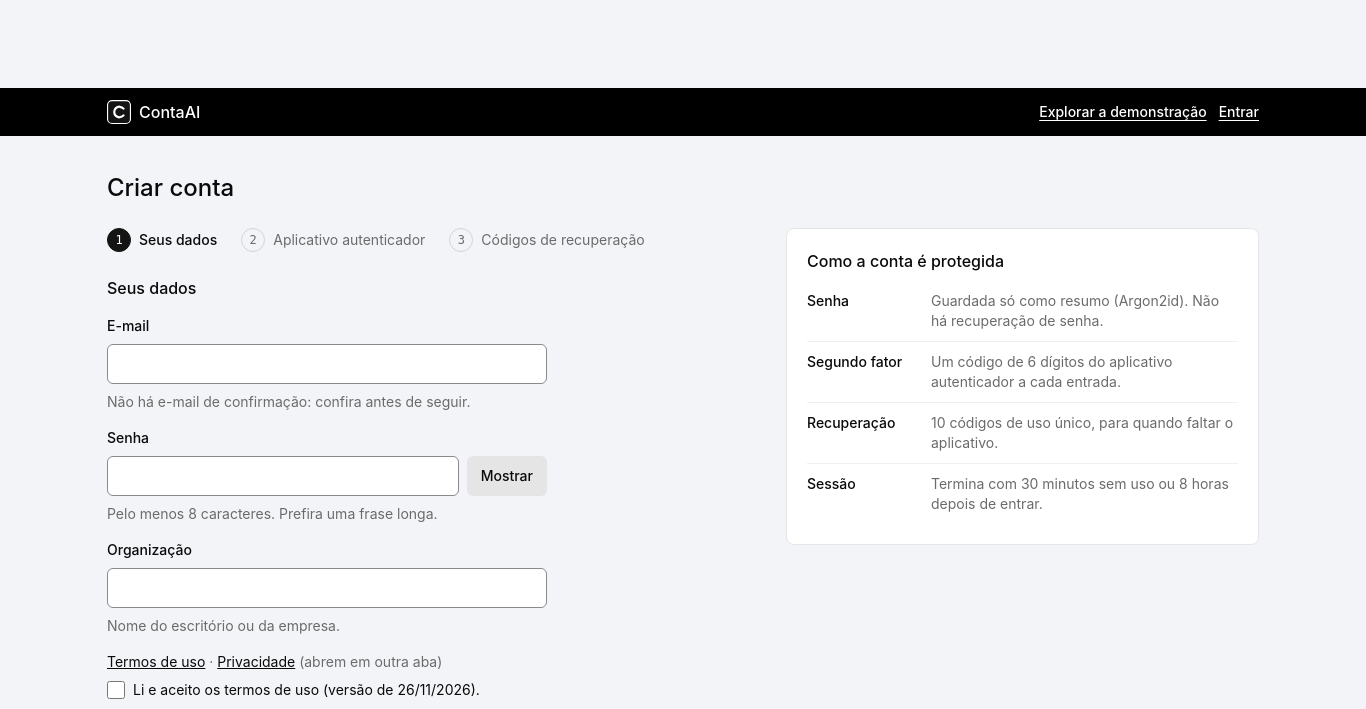
Criar conta, passo 1: os dados e o aceite › 409: a frase da API, com o foco, e o caminho para Entrar; o que foi digitado fica
(page scrolled)
Type "pessoa@exemplo.test" into the field labelled "E-mail" at (327,364), box left=107, top=344, right=547, bottom=384
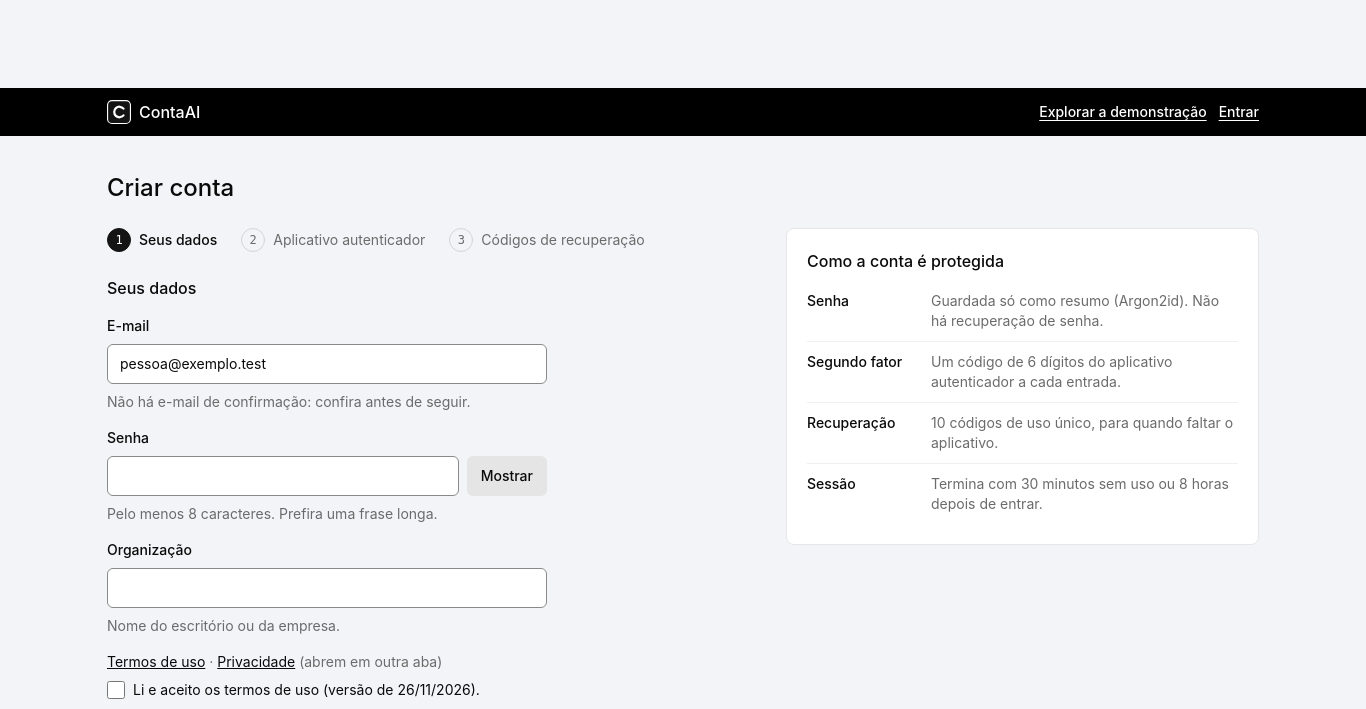
Type "uma frase bem longa" into the password field labelled "Senha" at (283,476), box left=107, top=456, right=459, bottom=496
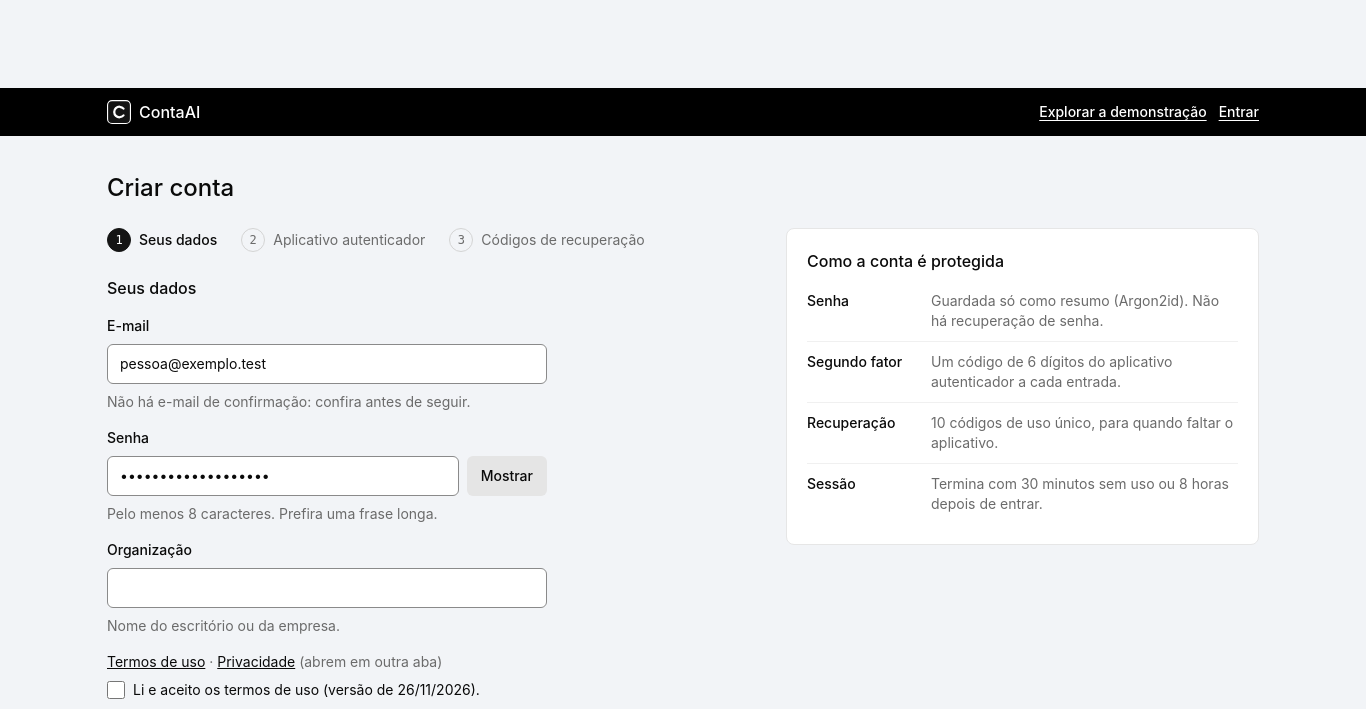
Type "Escritório de teste" into the field labelled "Organização" at (327,588), box left=107, top=568, right=547, bottom=608
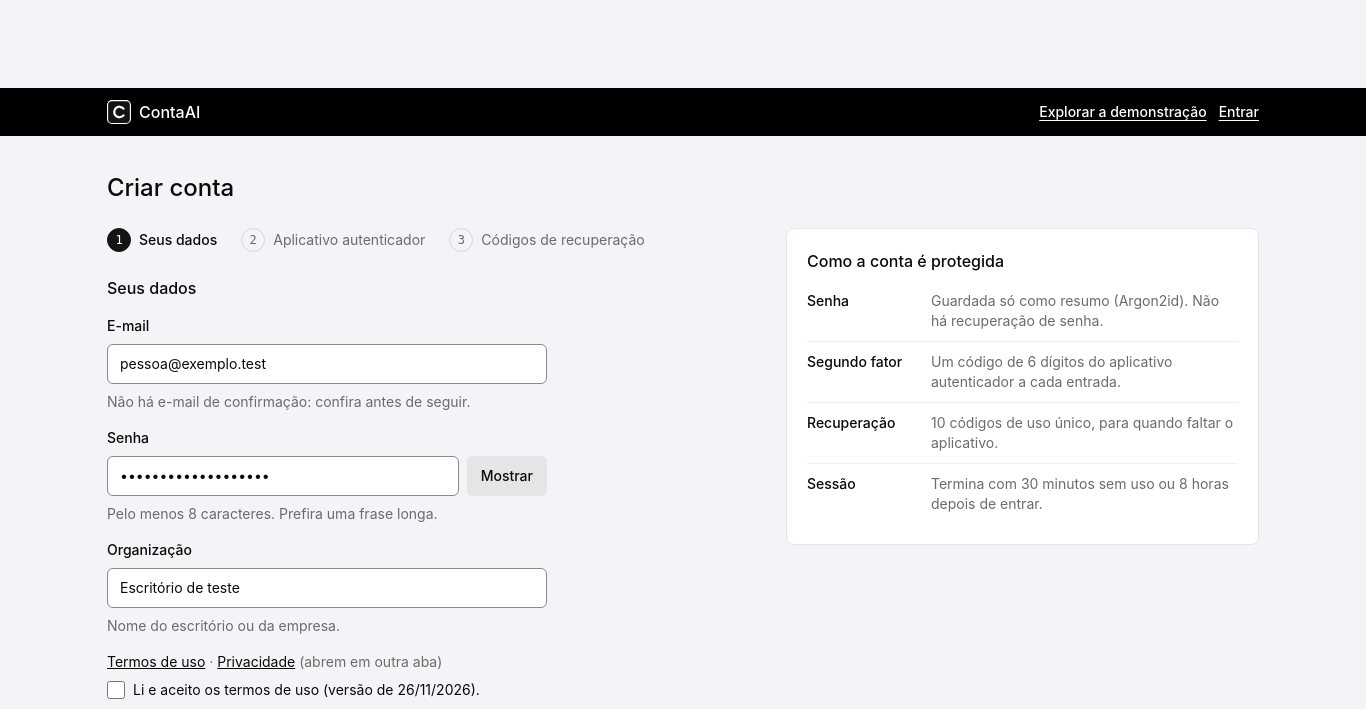
Click the checkbox labelled "Li e aceito os termos de uso (versão de 26/11/2026)." at (116,690), box left=107, top=681, right=125, bottom=699
(page scrolled)
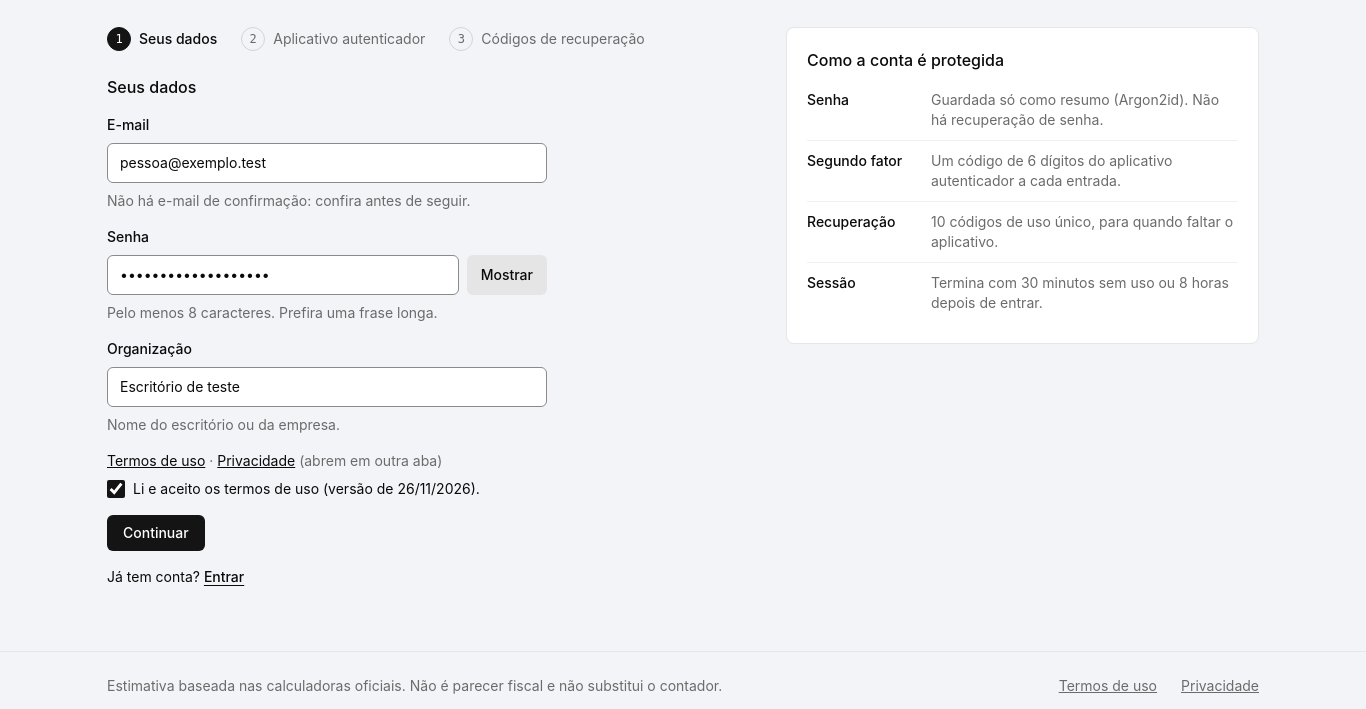
Click the button "Continuar" at (156,533), box left=107, top=515, right=205, bottom=551
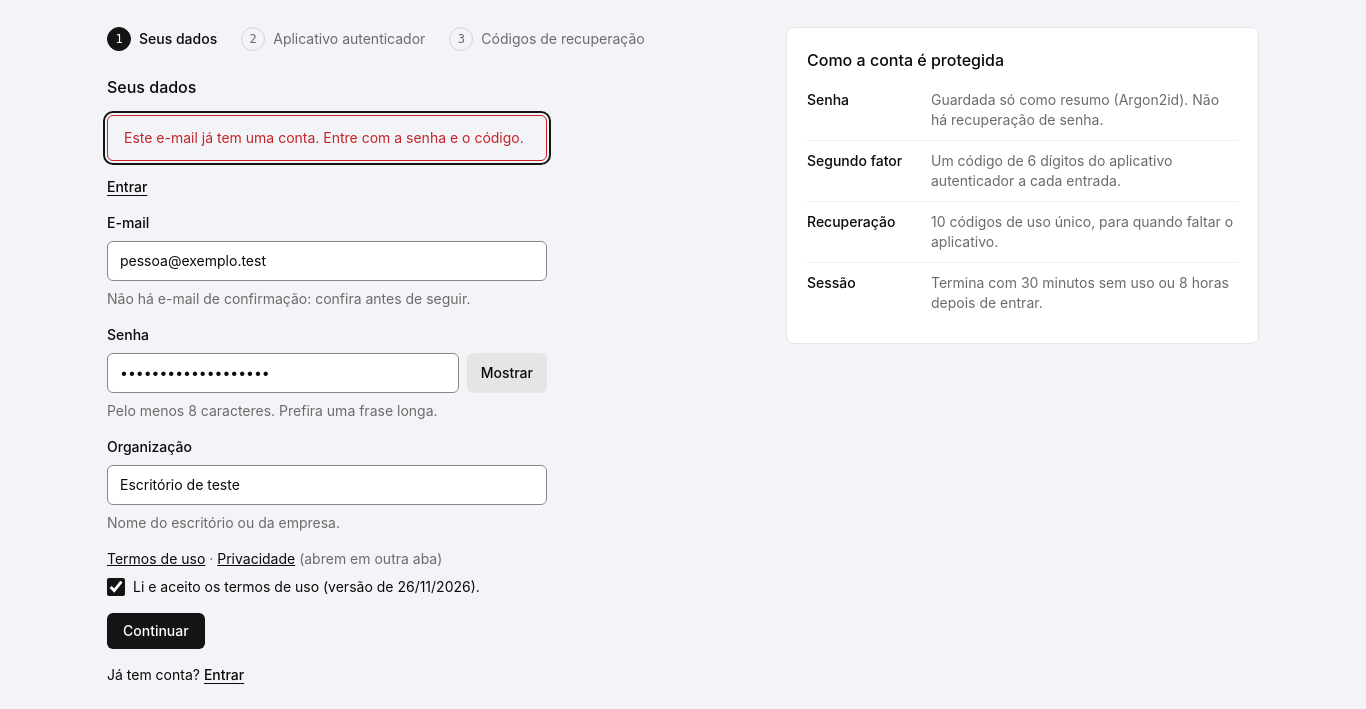
Expected: the heading "Seus dados" is shown, left=107, top=77, right=196, bottom=97
Now the message reads "Este e-mail já tem uma conta. Entre com a senha e o código.", box left=124, top=129, right=524, bottom=146
